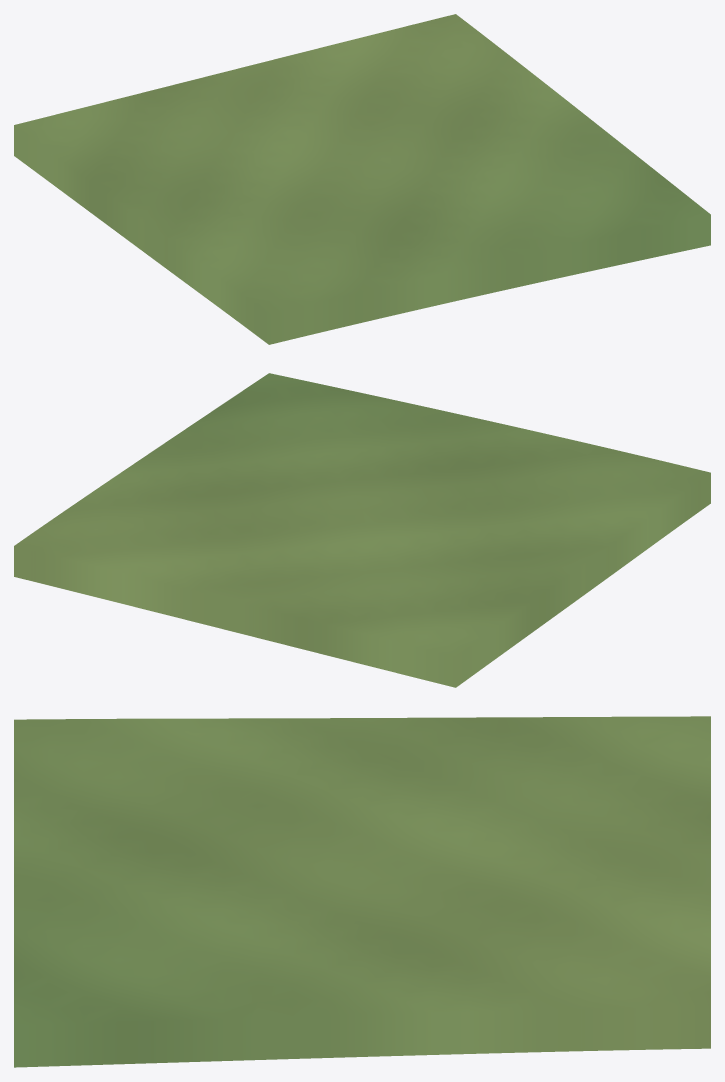
3 views of the same model, one above another, from view 1: azimuth 30°, elevation 25°; view 2: azimuth 150°, elevation 25°; view 3: azimuth 270°, elevation 25° (orthographic). The views are drawn at different scales.
Parts seen in each view (by area): view 1: terrain; view 2: terrain; view 3: terrain.
Part boxes in pixels (x1,y1,x2,y2): terrain: (14,14,710,344); terrain: (14,373,710,687); terrain: (14,716,710,1067).
Bounding box in the file's own units: 30 × 2.9 × 30.
